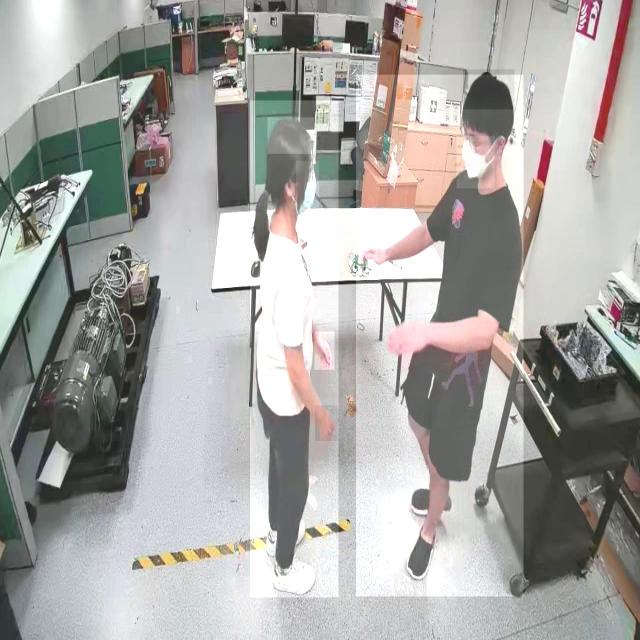face_mask: (456, 136, 494, 188), (296, 161, 319, 218)
glasses: (456, 120, 484, 158)
hand_noglove: (386, 317, 430, 358), (314, 405, 338, 442), (314, 332, 334, 371), (359, 242, 385, 265)
head_nohelmet: (462, 70, 514, 110), (267, 117, 315, 155)
person: (356, 75, 524, 597), (250, 101, 338, 598)
shoes: (267, 548, 319, 596), (406, 519, 440, 580), (266, 516, 306, 562), (408, 488, 454, 517)
